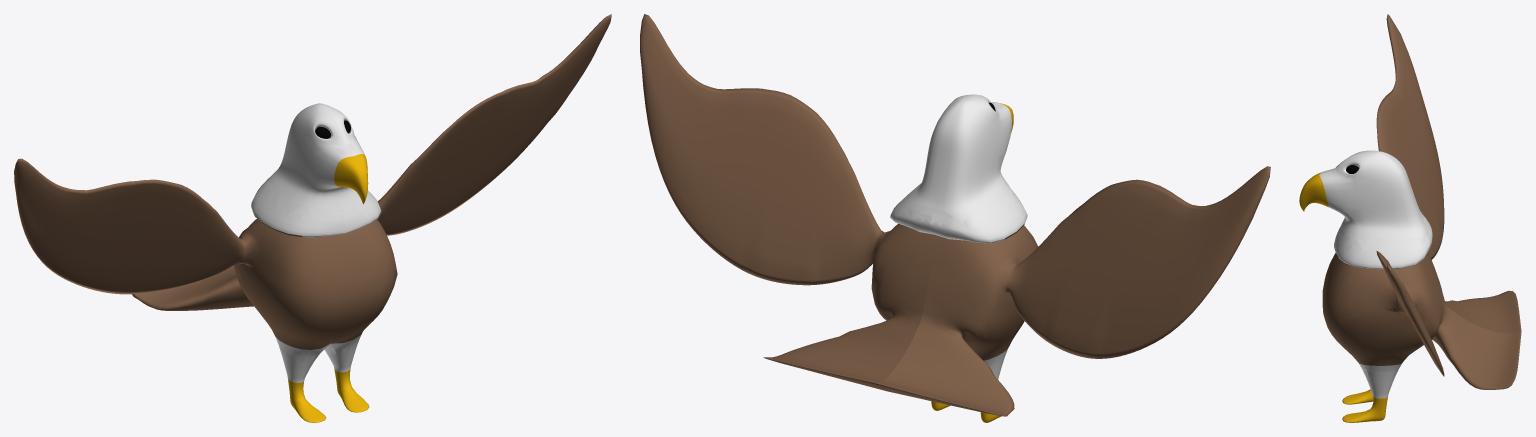
The model's file is elang.fbx.
The picture shows the model from 3 angles, left to right: view 1: azimuth 30°, elevation 25°; view 2: azimuth 150°, elevation 25°; view 3: azimuth 270°, elevation 25°; orthographic projection. The views are drawn at different scales.
Parts seen in each view (by area): view 1: pCube12; view 2: pCube12; view 3: pCube12.
Part boxes in pixels (x1,y1,x2,y2): pCube12: [14, 14, 611, 422]; pCube12: [640, 14, 1270, 422]; pCube12: [1299, 14, 1521, 422].
Bounding box in the file's own units: 5.9 × 2.96 × 2.2.
